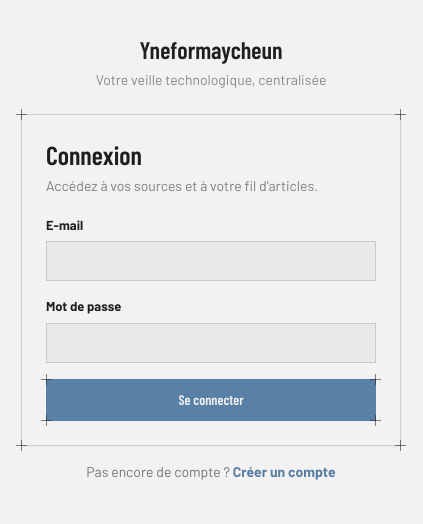
Test: Login › affiche un message explicite quand les identifiants sont refusés
This screenshot has width=423, height=524.
In the field labelled "E-mail": (211, 261) x1=46 y1=241 x2=376 y2=281, type "veilleur@test.fr"
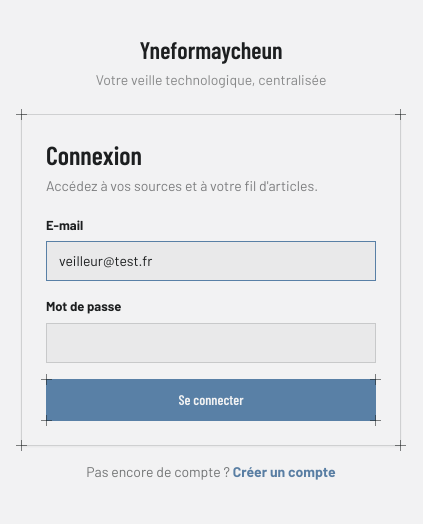
In the password field labelled "Mot de passe": (211, 343) x1=46 y1=323 x2=376 y2=363, type "motdepasse"
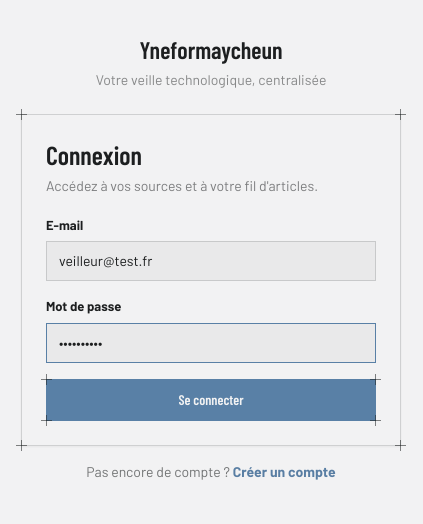
Click the button "Se connecter": (211, 400) x1=46 y1=379 x2=376 y2=421
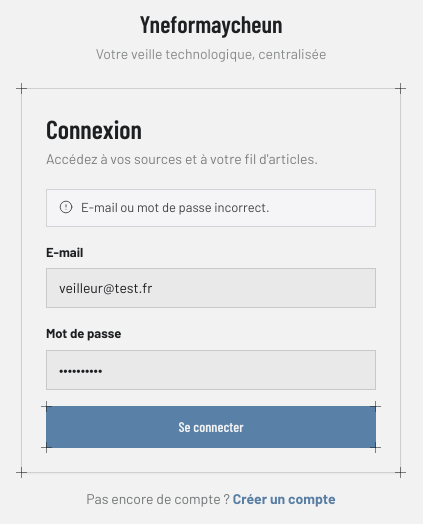
Expected: the text "E-mail ou mot de passe incorrect." is shown, x1=81 y1=198 x2=270 y2=218
